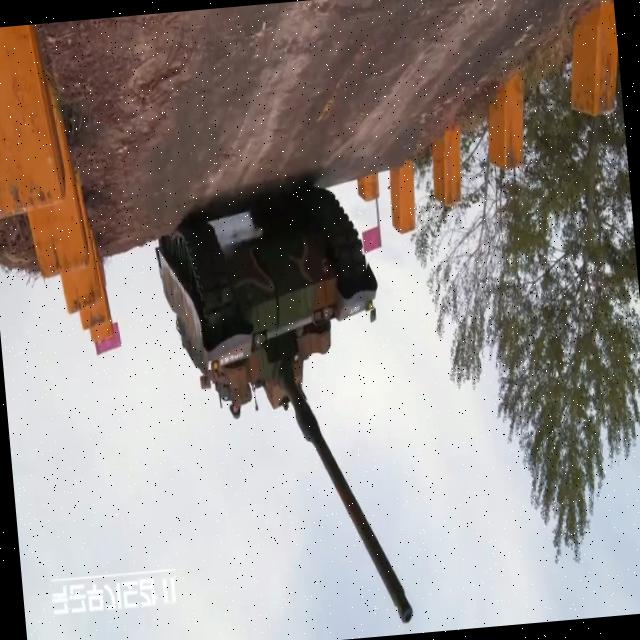korea tank: (149, 182, 415, 640)
